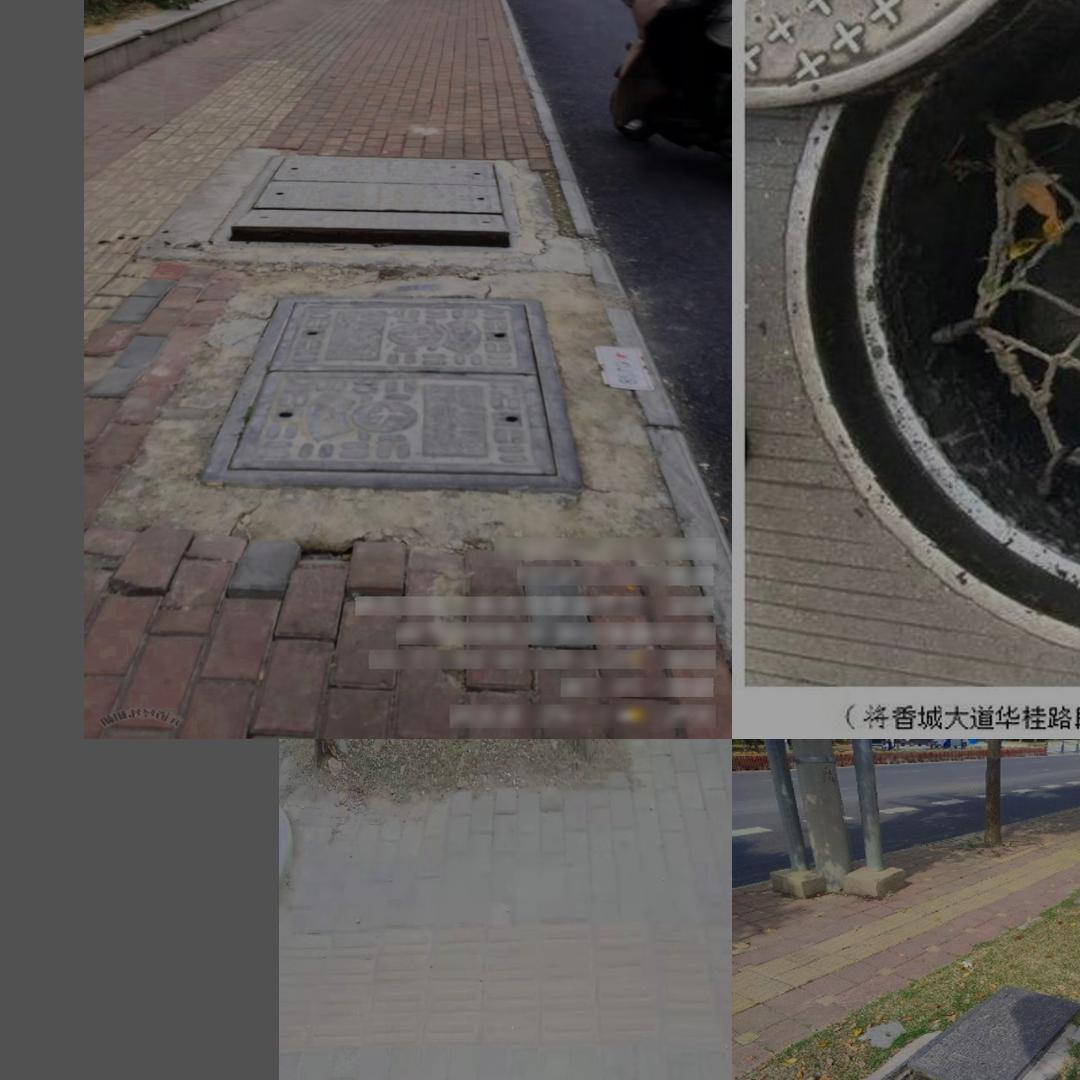good: (197, 297, 585, 495)
uncovered: (757, 0, 1080, 648), (206, 157, 521, 256), (853, 986, 1080, 1080)
